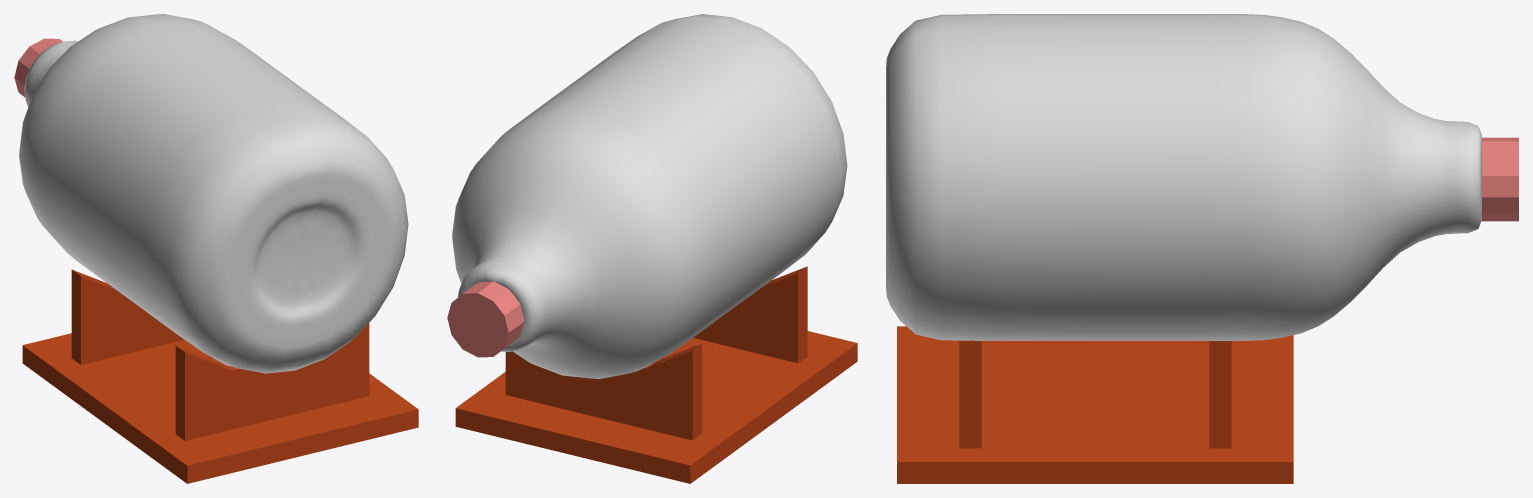
Rendered from SM_Ship in a Bottle.fbx.
3 renders of one model, left to right at view 1: azimuth 30°, elevation 25°; view 2: azimuth 150°, elevation 25°; view 3: azimuth 270°, elevation 25°, orthographic. The views are drawn at different scales.
Visible parts, largest first — view 1: SM_Ship in a Bottle; view 2: SM_Ship in a Bottle; view 3: SM_Ship in a Bottle.
Boxes of the visible parts, <box> form: SM_Ship in a Bottle: <box>14,14,418,483</box>; SM_Ship in a Bottle: <box>447,14,857,483</box>; SM_Ship in a Bottle: <box>886,14,1518,483</box>.
Size of the model in its own units: 50 by 65.06 by 96.34.
